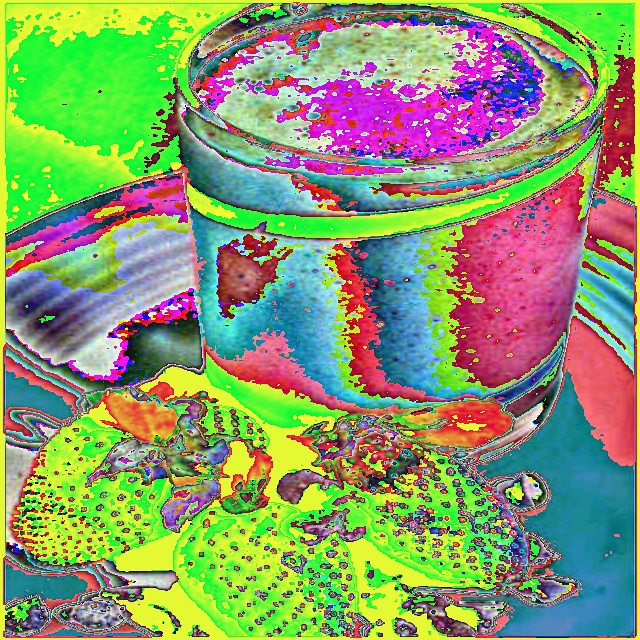background: (10, 8, 604, 637), (4, 41, 52, 634)
